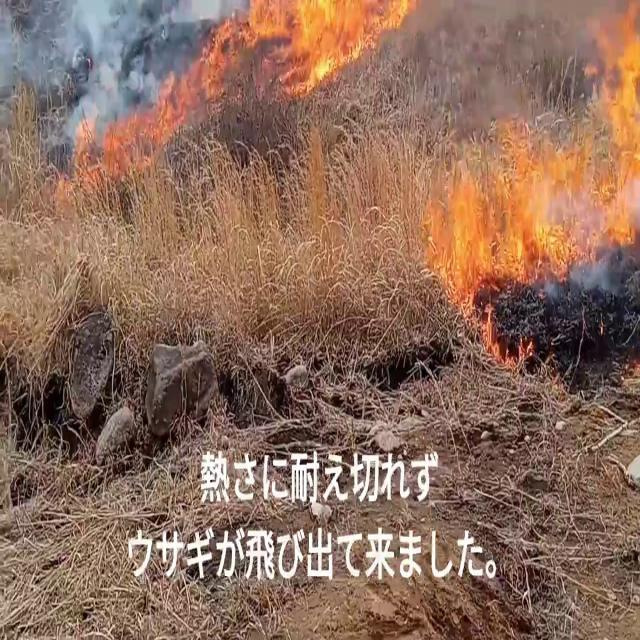Fire: (419, 0, 640, 345), (200, 0, 424, 92)
Smoke: (0, 0, 172, 158)
